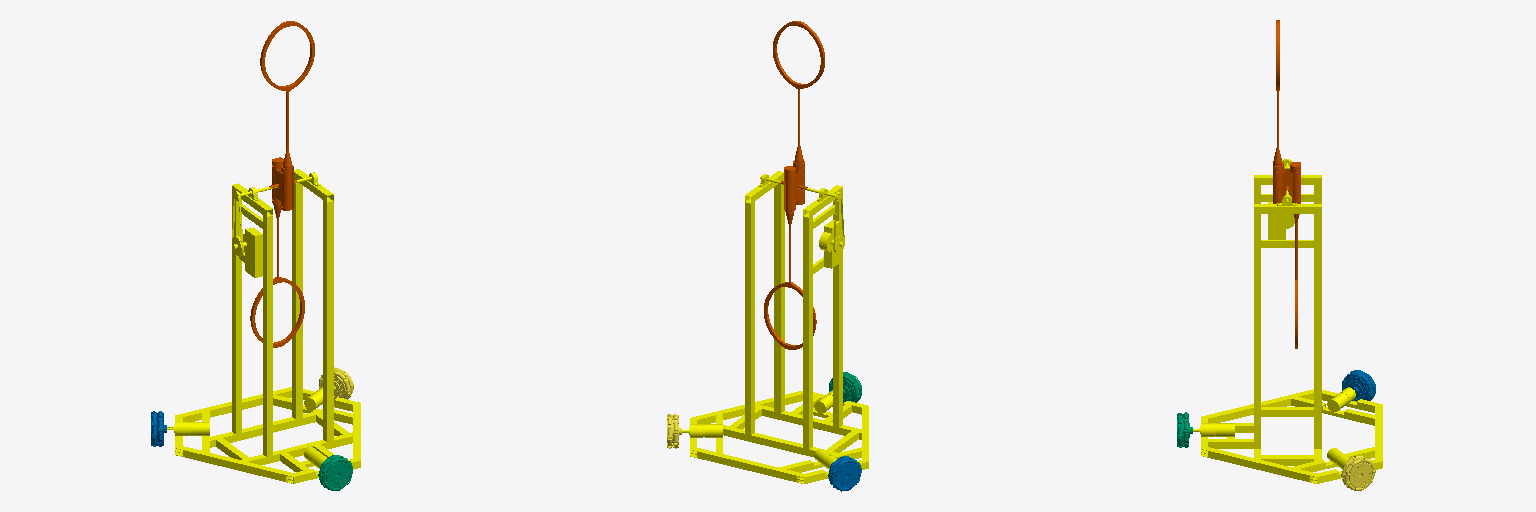
URDF robot description (bot-m1):
<?xml version="1.0"?>
<robot name="bot-m1">
  <link name="base_link">
    <visual>
      <origin rpy="1.57075 0 0" xyz="0 0 0"/>
      <geometry>
        <mesh filename="package://urdf_files/mesh/bot-base.stl" scale="0.001 0.001 0.001"/>
      </geometry>
      <material name="yellow">
        <color rgba="1 1 0 1"/>
      </material>
    </visual>
  </link>

<link name="omni-wheel0">
    <visual>
      <origin rpy="0 0 0" xyz="0 0 0"/>
      <geometry>
        <mesh filename="package://urdf_files/mesh/bot-wheel2.stl" scale="0.001 0.001 0.001"/>
        <material name="black">
        <color rgba="1 1 1 1"/>
      </material>
      </geometry>
    </visual>
  </link>


  <joint name="wheel0-joint" type="continuous">
    <parent link="base_link"/>
    <child link="omni-wheel0"/>
    <origin rpy="0 0 1.57075" xyz="0 -0.34 0.035"/>
  </joint>


<link name="omni-wheel1">
    <visual>
      <origin rpy="0 -1.57075 0" xyz="0 -0.107 -0.107"/>
      <geometry>
        <mesh filename="package://urdf_files/mesh/bot-wheel.stl" scale="0.001 0.001 0.001"/>
        <material name="black">
        <color rgba="1 1 1 1"/>
      </material>
      </geometry>
    </visual>
  </link>


  <joint name="wheel1-joint" type="continuous">
    <parent link="base_link"/>
    <child link="omni-wheel1"/>
    <origin rpy="0 0 1.57075" xyz="0 -0.34 0.035"/>
  </joint>

  <link name="omni-wheel2">
    <visual>
      <origin rpy="0 -1.57075 0" xyz="0 -0.107 -0.107"/>
      <geometry>
        <mesh filename="package://urdf_files/mesh/bot-wheel.stl" scale="0.001 0.001 0.001"/>
        <material name="black">
        <color rgba="1 1 1 1"/>
      </material>
      </geometry>
    </visual>
  </link>


  <joint name="wheel2-joint" type="continuous">
    <parent link="base_link"/>
    <child link="omni-wheel2"/>
    <origin rpy="0 0 3.665" xyz="0.294 0.17 0.035"/>
  </joint>

 <link name="omni-wheel3">
    <visual>
      <origin rpy="0 -1.57075 0" xyz="0 -0.107 -0.107"/>
      <geometry>
        <mesh filename="package://urdf_files/mesh/bot-wheel.stl" scale="0.001 0.001 0.001"/>
        <material name="black">
        <color rgba="1 1 1 1"/>
      </material>
      </geometry>
    </visual>
  </link>


  <joint name="wheel3-joint" type="continuous">
    <parent link="base_link"/>
    <child link="omni-wheel3"/>
    <origin rpy="0 0 -0.5235" xyz="-0.294 0.17 0.035"/>
  </joint>

<link name="racket">
    <visual>
      <origin rpy="1.57075 0 1.57075" xyz="0.565 -0.18 -0.215"/>
      <geometry>
        <mesh filename="package://urdf_files/mesh/bot-racket.stl" scale="0.001 0.001 0.001"/>
        <material name="black">
        <color rgba="1 1 1 1"/>
      </material>
      </geometry>
    </visual>
  </link>
 
<joint name="racket_joint" type="continuous">
    <parent link="base_link"/>
    <child link="racket"/>
    <origin rpy="1.57075 0 0" xyz="0 -0.045 0.923"/>
  </joint>

</robot>

--- What the picture shows (computed from the rendered views, not written in the file) ---
Views: 3 orthographic renders of the robot side by side, from view 1: azimuth 30°, elevation 25°; view 2: azimuth 150°, elevation 25°; view 3: azimuth 270°, elevation 25°.
Model bot-m1 with 6 links and 5 joints (5 continuous), rooted at base_link, posed all joints at 0.
Links seen in each view (by area): view 1: base_link, racket, omni-wheel1, omni-wheel2; view 2: base_link, racket, omni-wheel3, omni-wheel1; view 3: base_link, racket, omni-wheel2, omni-wheel3.
Link boxes in pixels (x1=…): base_link: x1=167, y1=169, x2=360, y2=483; racket: x1=250, y1=21, x2=314, y2=347; omni-wheel1: x1=318, y1=455, x2=352, y2=490; omni-wheel2: x1=319, y1=367, x2=353, y2=399; base_link: x1=682, y1=171, x2=868, y2=483; racket: x1=764, y1=21, x2=824, y2=349; omni-wheel3: x1=828, y1=456, x2=861, y2=491; omni-wheel1: x1=829, y1=372, x2=861, y2=402; base_link: x1=1193, y1=159, x2=1382, y2=483; racket: x1=1273, y1=20, x2=1300, y2=348; omni-wheel2: x1=1341, y1=455, x2=1375, y2=490; omni-wheel3: x1=1342, y1=370, x2=1375, y2=401.
Size in the robot's own frame: 0.7537 by 0.6774 by 1.54 metres.
5 mesh visuals loaded from 4 distinct referenced files (3 binary STL); not drawn: 1 (reference not matched to a file when rendering).